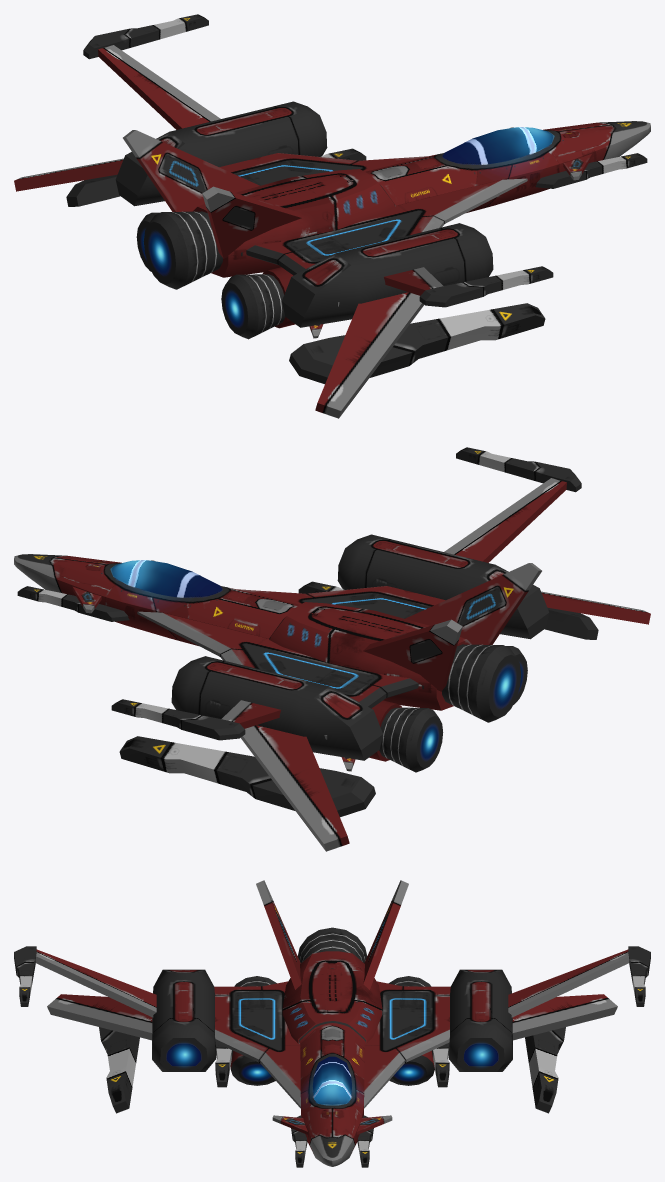
File: Nave2.fbx
3 renders of one model, top to bottom at view 1: azimuth 30°, elevation 25°; view 2: azimuth 150°, elevation 25°; view 3: azimuth 270°, elevation 25°, orthographic. The views are drawn at different scales.
Parts seen in each view (by area): view 1: Nave2; view 2: Nave2; view 3: Nave2.
Boxes of the visible parts, bbox=[...] form: Nave2: bbox=[14, 14, 650, 418]; Nave2: bbox=[14, 447, 650, 851]; Nave2: bbox=[14, 880, 650, 1167].
Bounding box in the file's own units: 141 × 42.18 × 177.
1 material, 1 textured.
